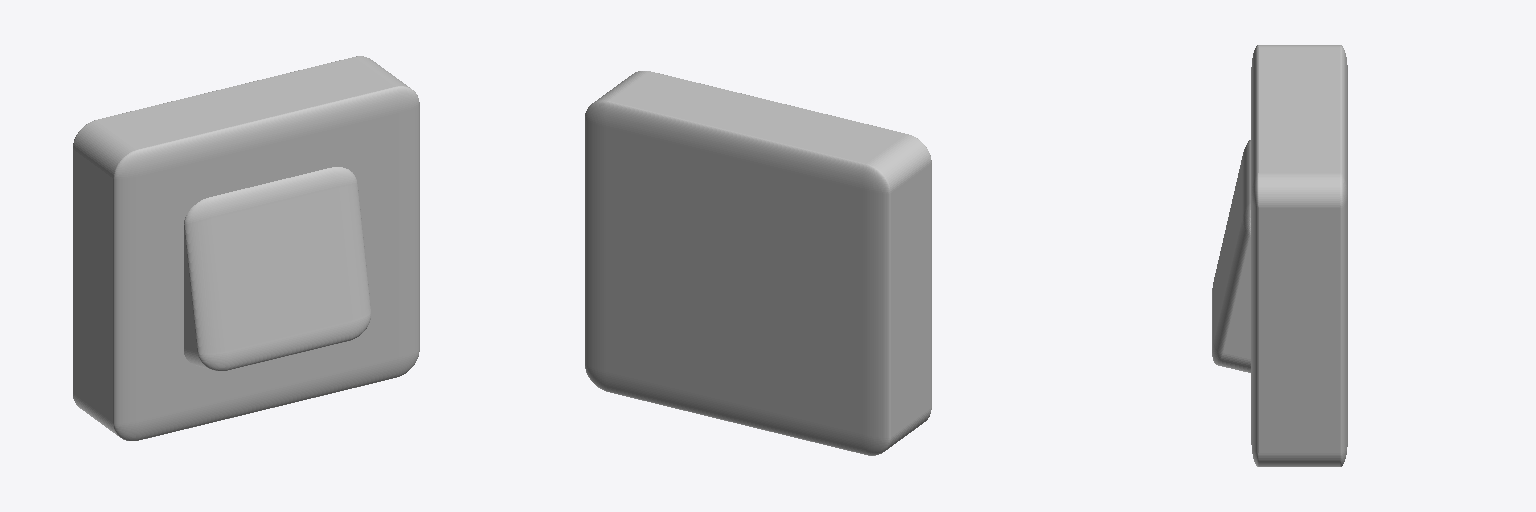
The model's file is switch.obj.
3 views of the same model, side by side, from view 1: azimuth 30°, elevation 25°; view 2: azimuth 150°, elevation 25°; view 3: azimuth 270°, elevation 25° (orthographic).
Parts seen in each view (by area): view 1: Switch; view 2: Switch; view 3: Switch.
Part boxes in pixels (left/top/right/bottom): Switch: left=73, top=56, right=419, bottom=440; Switch: left=585, top=71, right=931, bottom=455; Switch: left=1212, top=45, right=1347, bottom=466.
Size of the model in its own units: 0.22 by 0.2 by 0.0844.